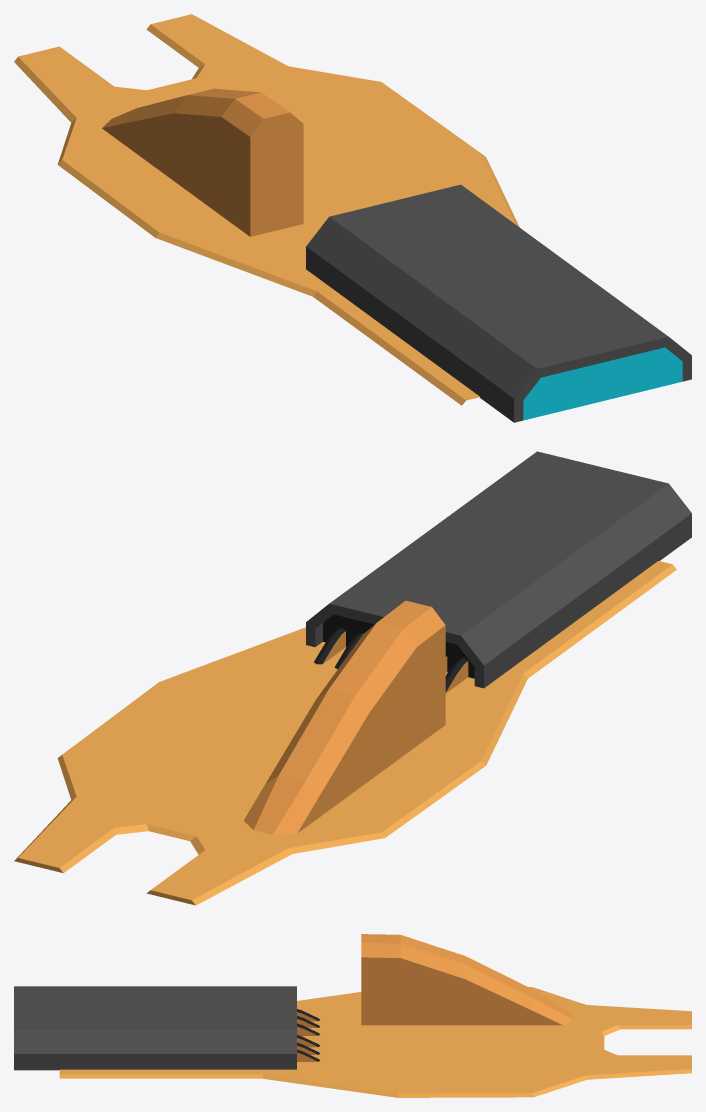
The model's file is test_ship_roof.fbx.
3 views of the same model, one above another, from view 1: azimuth 30°, elevation 25°; view 2: azimuth 150°, elevation 25°; view 3: azimuth 270°, elevation 25° (orthographic). The views are drawn at different scales.
Visible parts, largest first — view 1: test_ship_roof; view 2: test_ship_roof; view 3: test_ship_roof.
Part boxes in pixels (x1=…): test_ship_roof: x1=14, y1=14, x2=691, y2=422; test_ship_roof: x1=14, y1=451, x2=691, y2=905; test_ship_roof: x1=14, y1=934, x2=691, y2=1097.
Size of the model in its own units: 2882 by 992 by 7517.
1 material, 1 textured.
